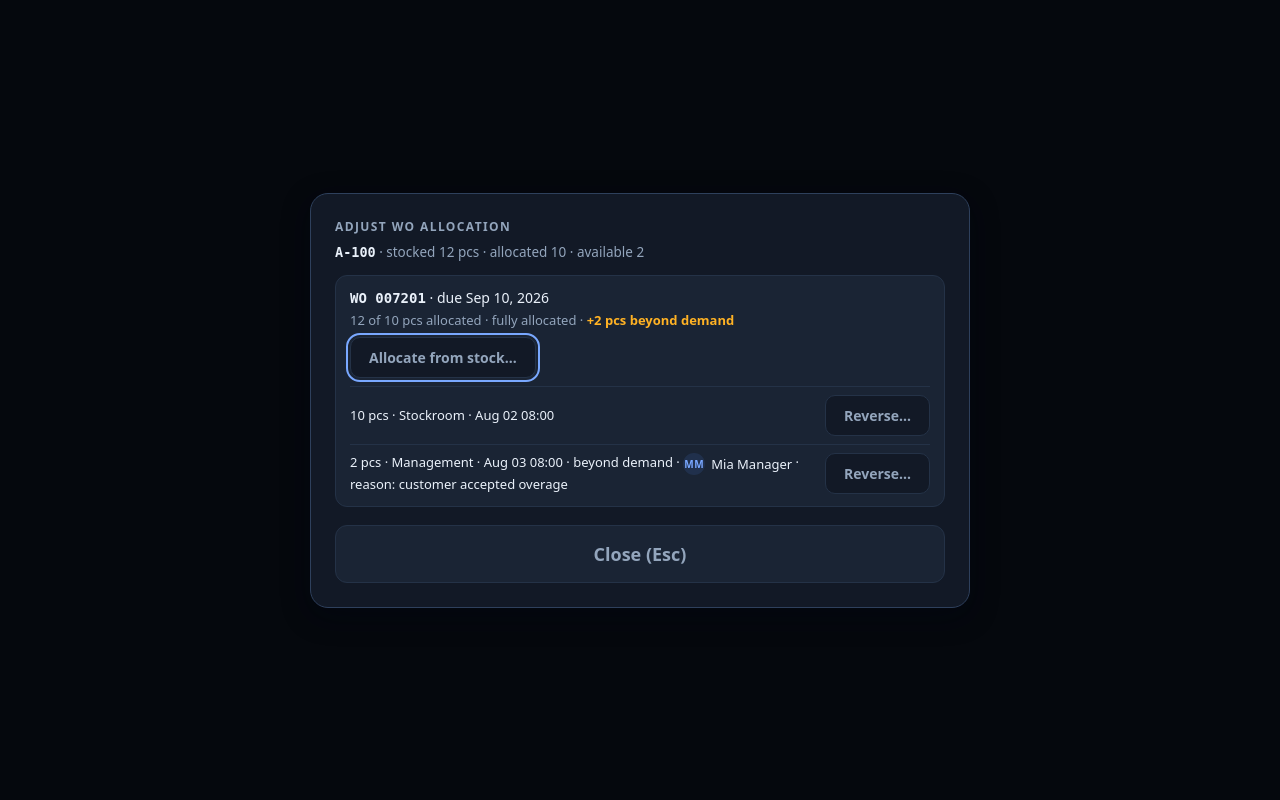
FC-5: a reversal that keeps the Work Order complete names no reopen; two allocations open the Overview of the line
Expected: the heading "Adjust WO Allocation" is shown, [335,218,511,234]
Expected: the button with aria-label "Reverse allocation of 10 pcs to Work Order 007201" is shown, [825,394,930,436]
Click the button with aria-label "Reverse allocation of 2 pcs to Work Order 007201" at (878, 473), box [825,452,930,494]
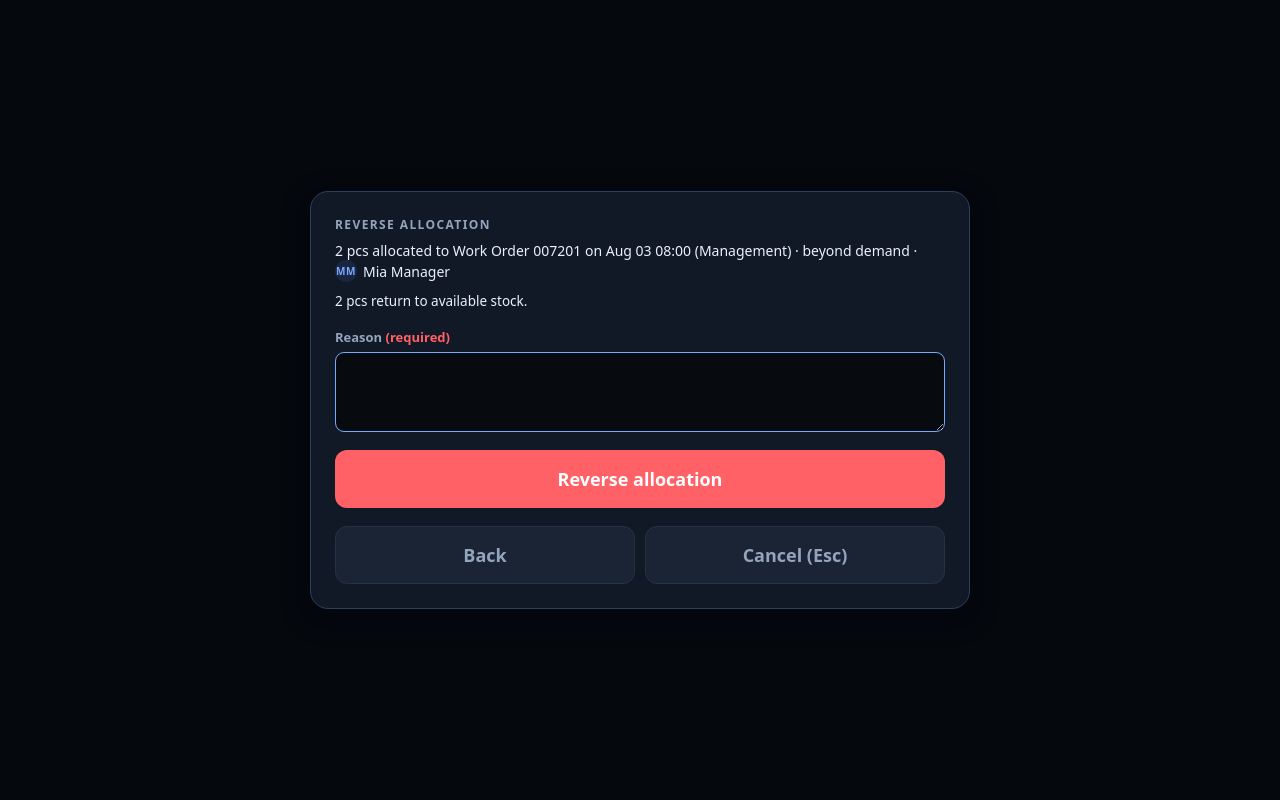
Expected: the dialog does not show "becomes Open again", [310,191,970,609]
Expected: the text box labelled "Reason (required)" is shown, [335,352,945,432]
Expected: the dialog shows "2 pcs return to available stock.", [310,191,970,609]
